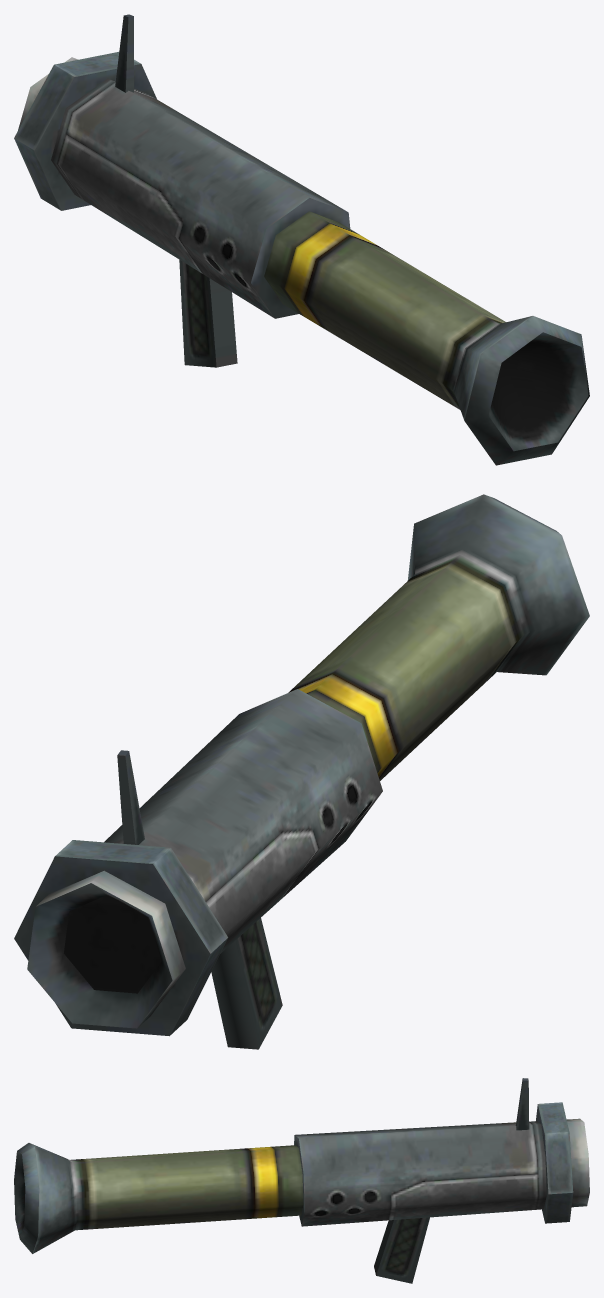
Rendered from RocketLauncher.fbx.
The picture shows the model from 3 angles, top to bottom: view 1: azimuth 30°, elevation 25°; view 2: azimuth 150°, elevation 25°; view 3: azimuth 270°, elevation 25°; orthographic projection. The views are drawn at different scales.
Visible parts, largest first — view 1: RocketLauncher; view 2: RocketLauncher; view 3: RocketLauncher.
Part boxes in pixels (left/top/right/bottom): RocketLauncher: left=14, top=14, right=589, bottom=465; RocketLauncher: left=14, top=494, right=589, bottom=1049; RocketLauncher: left=14, top=1078, right=589, bottom=1283.
Bounding box in the file's own units: 0.3942 × 0.5105 × 1.3.
